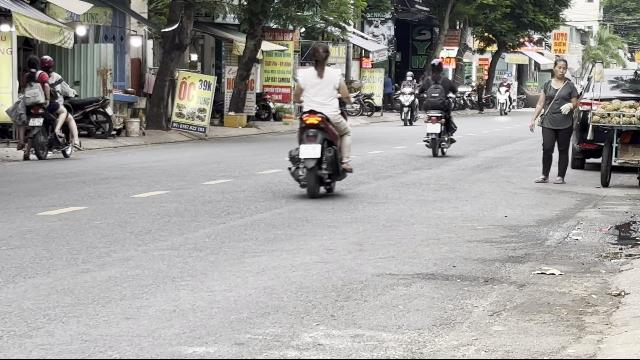helmet: (38, 55, 54, 71), (429, 58, 443, 74)
licenseplate: (300, 144, 320, 158), (427, 123, 441, 133), (28, 118, 42, 126)
motorcyclist: (287, 40, 355, 196), (6, 53, 80, 161), (418, 56, 458, 156)
nohelmet: (309, 42, 331, 68), (25, 55, 39, 71)
